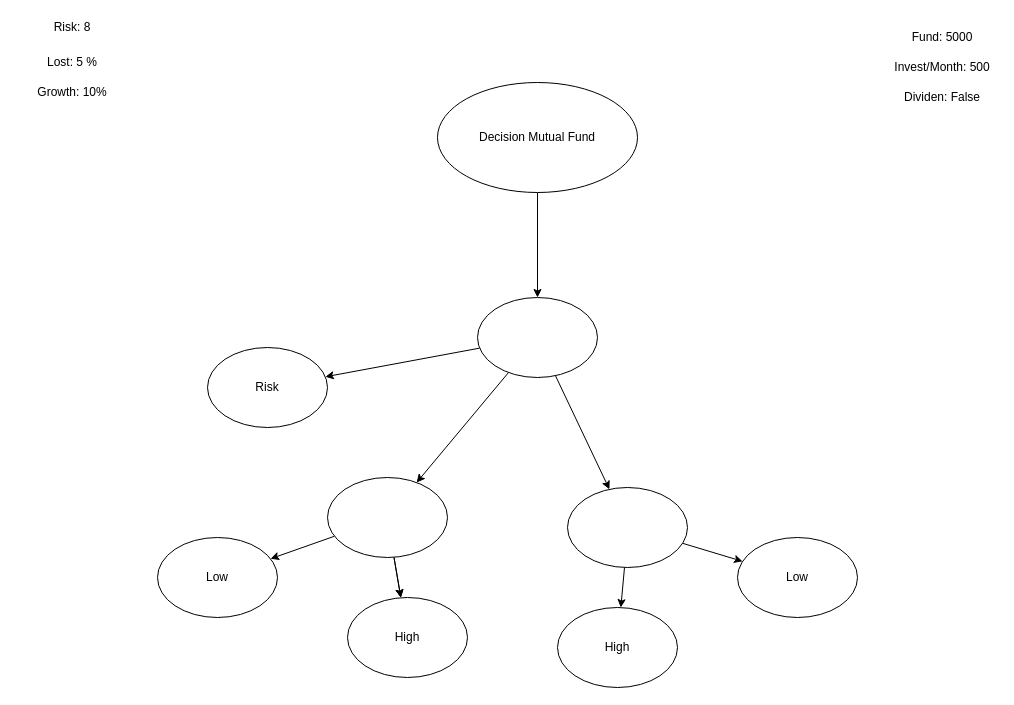
Some shapes in this 1014 by 705 pixel diagram are drawn without their labels. Here are the shapes that lost their labels. From the top down, the box of each, then its label:
(476, 296, 598, 378): Type
(326, 476, 448, 558): Profit %
(566, 486, 688, 568): Loss
